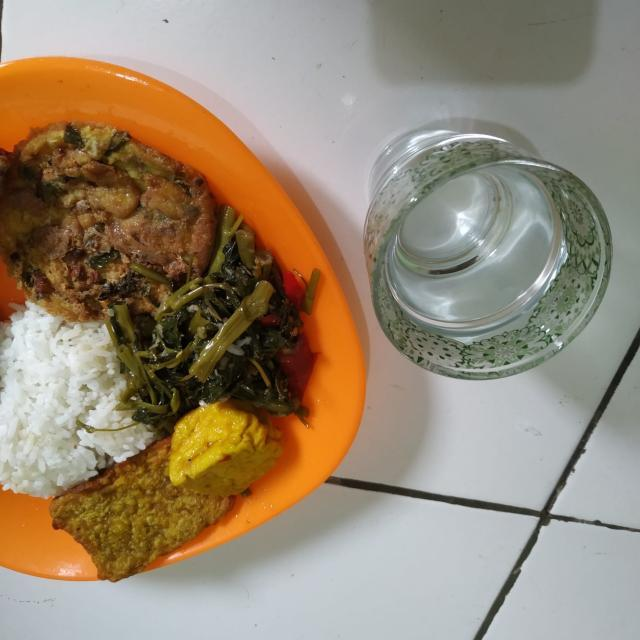nasi_putih: (0, 325, 224, 531)
telur_ayam_dadar: (0, 106, 282, 354)
